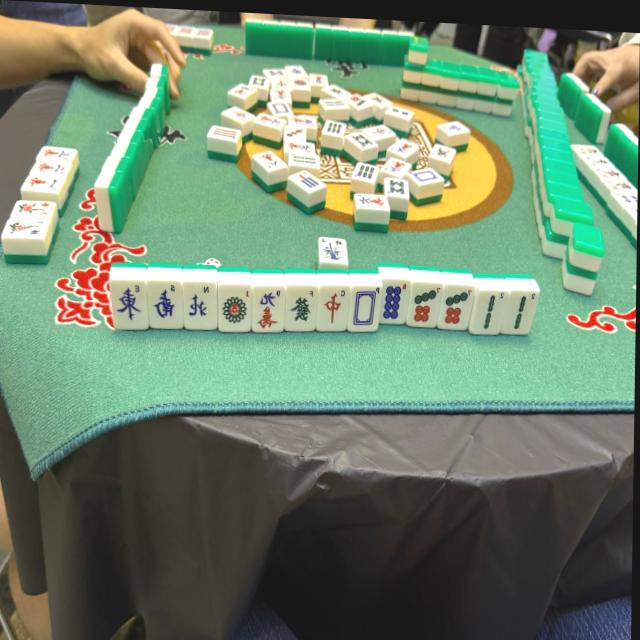bai: (348, 286, 380, 333)
east: (110, 280, 148, 330)
f1: (6, 218, 47, 239)
f4: (318, 238, 345, 265)
fa: (286, 285, 318, 332)
ff1: (13, 198, 55, 220)
m1: (26, 176, 63, 191)
m2: (33, 161, 68, 176)
m3: (38, 146, 73, 161)
m9: (253, 286, 285, 332)
north: (183, 281, 217, 330)
s2: (470, 291, 507, 336), (503, 290, 538, 336)
south: (149, 280, 183, 328)
t1: (219, 285, 252, 333)
t7: (439, 287, 474, 332), (406, 284, 441, 329)
t8: (380, 281, 409, 326)
zhong: (318, 285, 350, 333)
